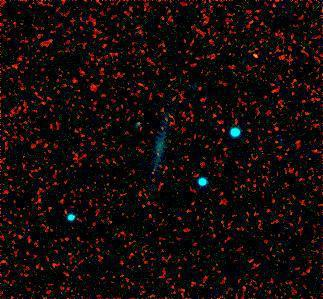star: (243, 39, 273, 69)
